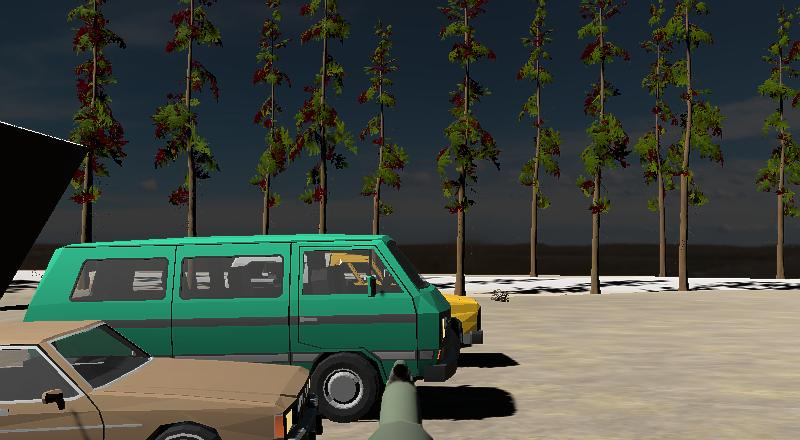car: (16, 237, 463, 422), (1, 323, 335, 440)
